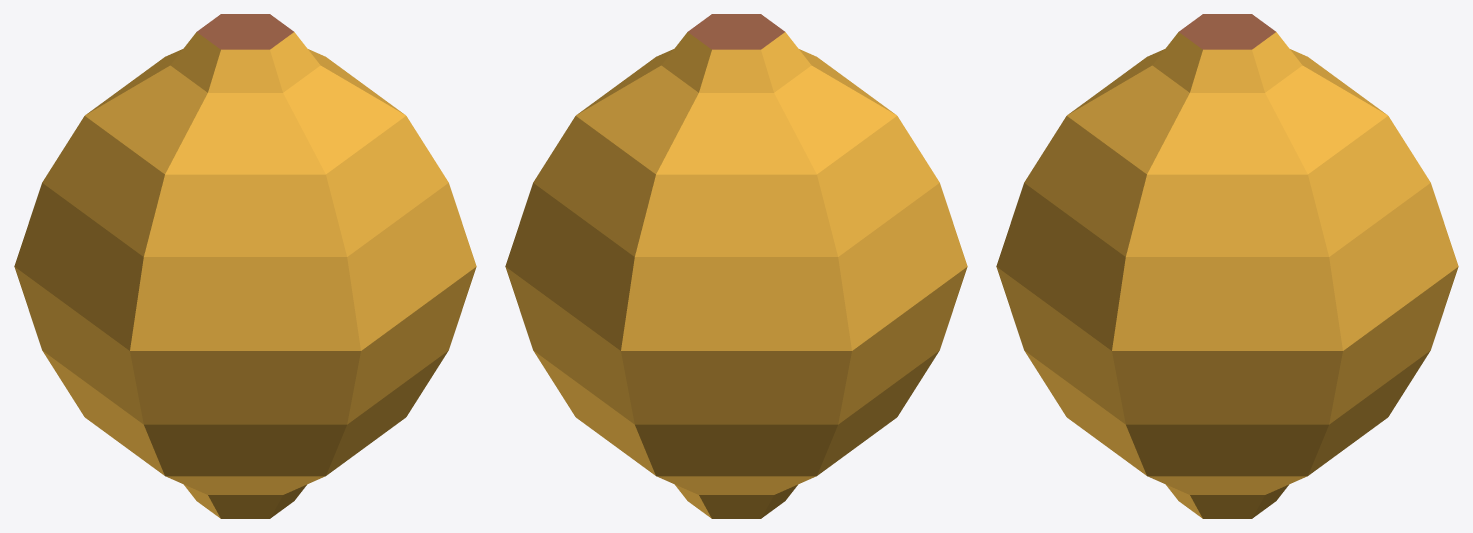
The model's file is lemon.fbx.
The picture shows the model from 3 angles, left to right: view 1: azimuth 30°, elevation 25°; view 2: azimuth 150°, elevation 25°; view 3: azimuth 270°, elevation 25°; orthographic projection.
Parts seen in each view (by area): view 1: lemon; view 2: lemon; view 3: lemon.
Boxes of the visible parts, x1,y1,x2,y2 form: lemon: (14, 14, 476, 518); lemon: (505, 14, 967, 518); lemon: (996, 14, 1458, 518).
Size of the model in its own units: 1.73 by 2.24 by 2.
